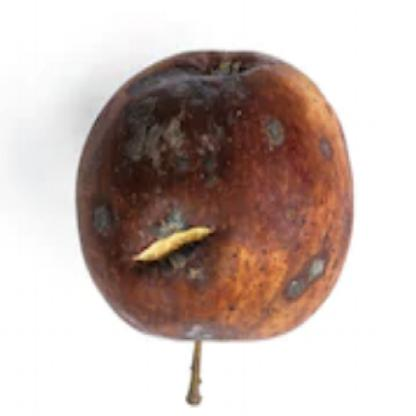Rotten Apple: (74, 52, 353, 339)
